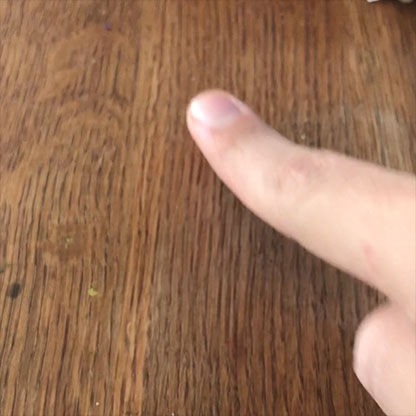fingertip: (174, 70, 256, 155)
